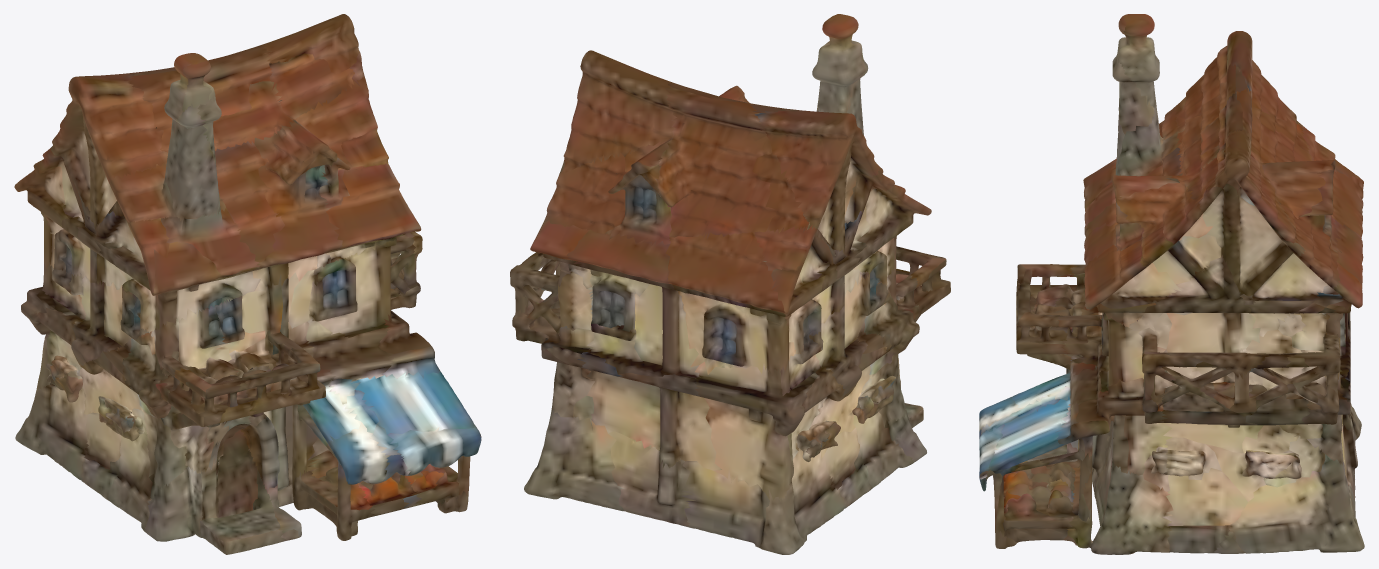
File: building 2.glb
3 renders of one model, left to right at view 1: azimuth 30°, elevation 25°; view 2: azimuth 150°, elevation 25°; view 3: azimuth 270°, elevation 25°, orthographic. The views are drawn at different scales.
Parts seen in each view (by area): view 1: Mesh_0; view 2: Mesh_0; view 3: Mesh_0.
Boxes of the visible parts, x1,y1,x2,y2 form: Mesh_0: (14, 14, 481, 554); Mesh_0: (510, 14, 950, 554); Mesh_0: (979, 14, 1364, 554).
Bounding box in the file's own units: 0.4673 × 0.6684 × 0.5333.
1 material, 1 textured.
